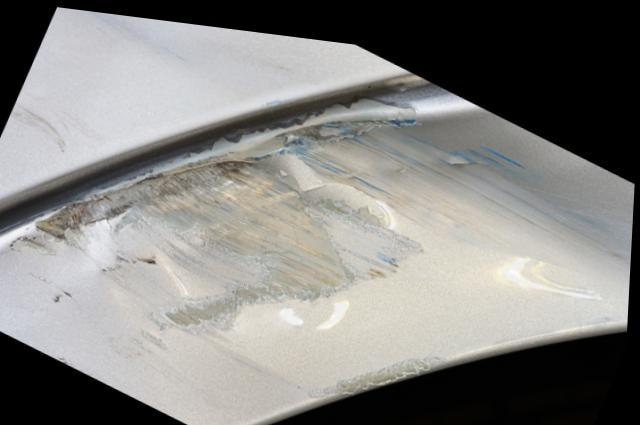scratch: (6, 96, 635, 398), (0, 64, 98, 159)
